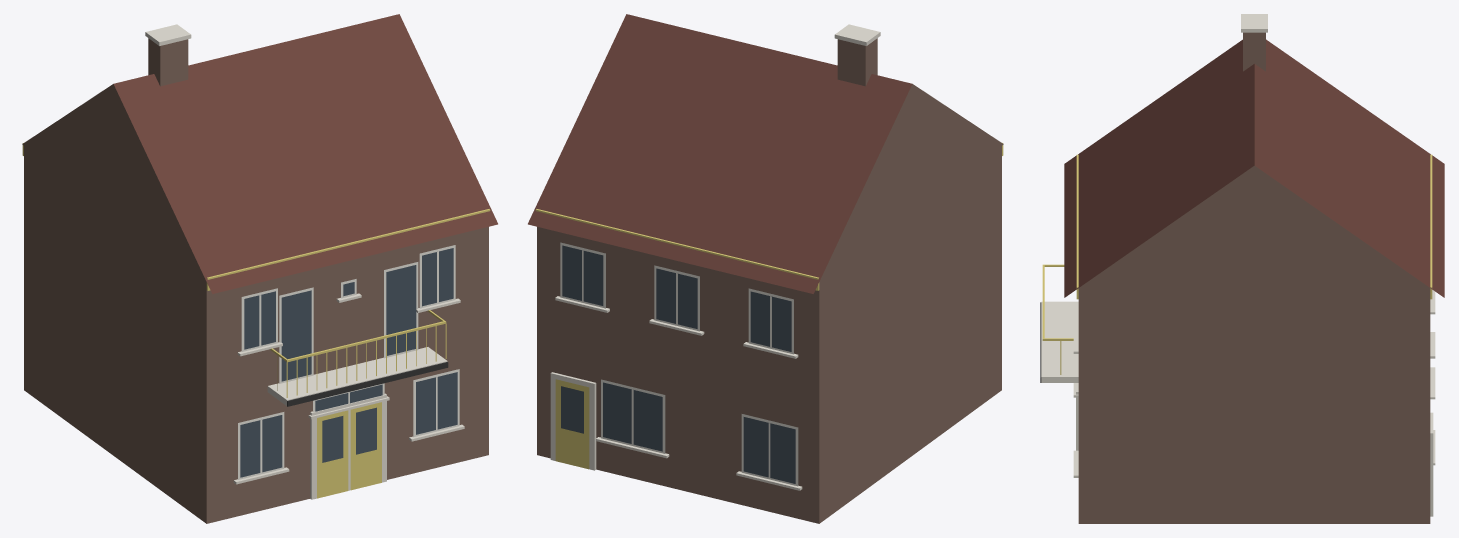
File: oo-ta-centre__yellow__2__gable__long__solid.glb
3 renders of one model, left to right at view 1: azimuth 30°, elevation 25°; view 2: azimuth 150°, elevation 25°; view 3: azimuth 270°, elevation 25°, orthographic. The views are drawn at different scales.
Visible parts, largest first — view 1: oo-ta-centre__yellow__2__gable__long__solid; view 2: oo-ta-centre__yellow__2__gable__long__solid; view 3: oo-ta-centre__yellow__2__gable__long__solid.
Boxes of the visible parts, x1,y1,x2,y2 form: oo-ta-centre__yellow__2__gable__long__solid: (22, 14, 497, 523); oo-ta-centre__yellow__2__gable__long__solid: (528, 14, 1003, 523); oo-ta-centre__yellow__2__gable__long__solid: (1040, 14, 1444, 523).
Size of the model in its own units: 7.66 by 10.52 by 9.76.
